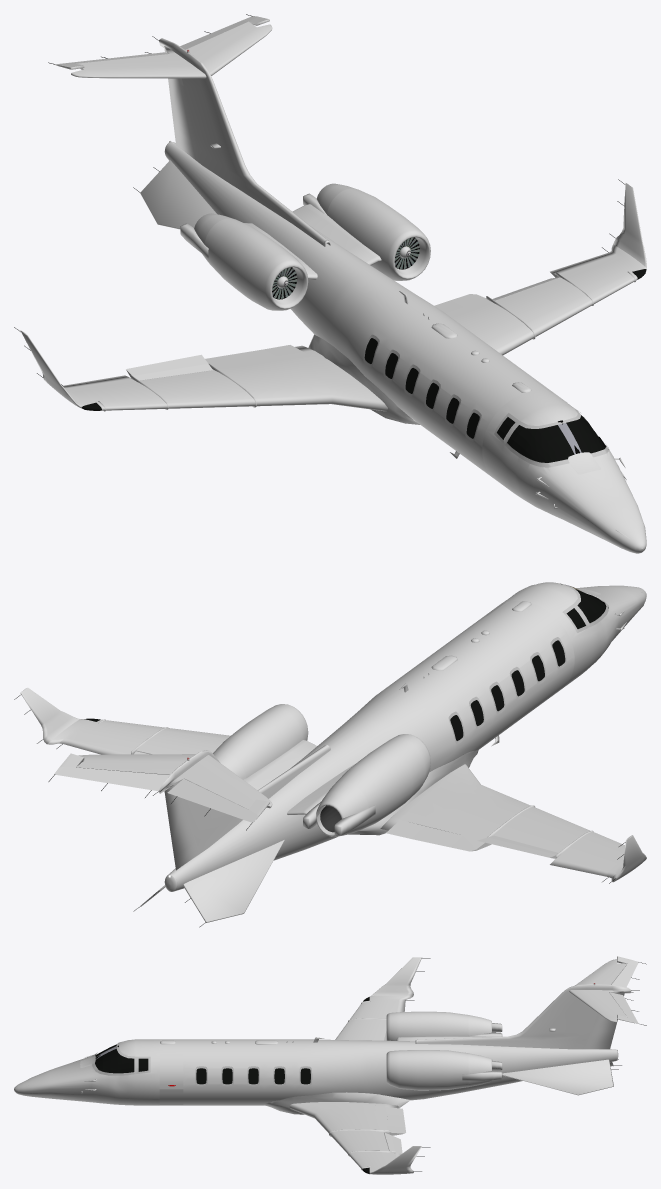
File: Learjet_60_HD.glb
3 views of the same model, one above another, from view 1: azimuth 30°, elevation 25°; view 2: azimuth 150°, elevation 25°; view 3: azimuth 270°, elevation 25° (orthographic). The views are drawn at different scales.
Parts seen in each view (by area): view 1: node_10, node_17, node_23, node_22, node_26, node_25, node_3, node_9, node_4; view 2: node_10, node_17, node_23, node_25, node_22, node_26, node_3, node_9, node_4; view 3: node_10, node_23, node_22, node_26, node_17, node_25, node_3, node_9, node_4, node_19.
Part boxes in pixels (x1,y1,x2,y2): node_10: (140,142,646,553); node_17: (20,330,387,411); node_23: (180,183,430,310); node_22: (434,183,646,355); node_26: (159,38,489,458); node_25: (54,16,272,78); node_3: (364,338,604,462); node_9: (363,334,481,441); node_4: (494,400,608,467); node_10: (140,582,646,922); node_17: (380,764,646,882); node_23: (213,704,430,836); node_25: (54,753,272,822); node_22: (20,687,230,754); node_26: (159,630,499,876); node_3: (450,589,605,740); node_9: (448,637,566,744); node_4: (508,582,608,632); node_10: (14,1028,618,1114); node_23: (386,1011,502,1090); node_22: (289,1102,421,1174); node_26: (211,984,631,1050); node_17: (335,957,422,1040); node_25: (569,956,638,1023); node_3: (95,1044,310,1084); node_9: (195,1066,312,1086); node_4: (92,1042,150,1075); node_19: (329,1001,404,1170).
Bounding box in the file's own units: 12.8 × 3.87 × 18.1.
36 materials, 28 textured.
